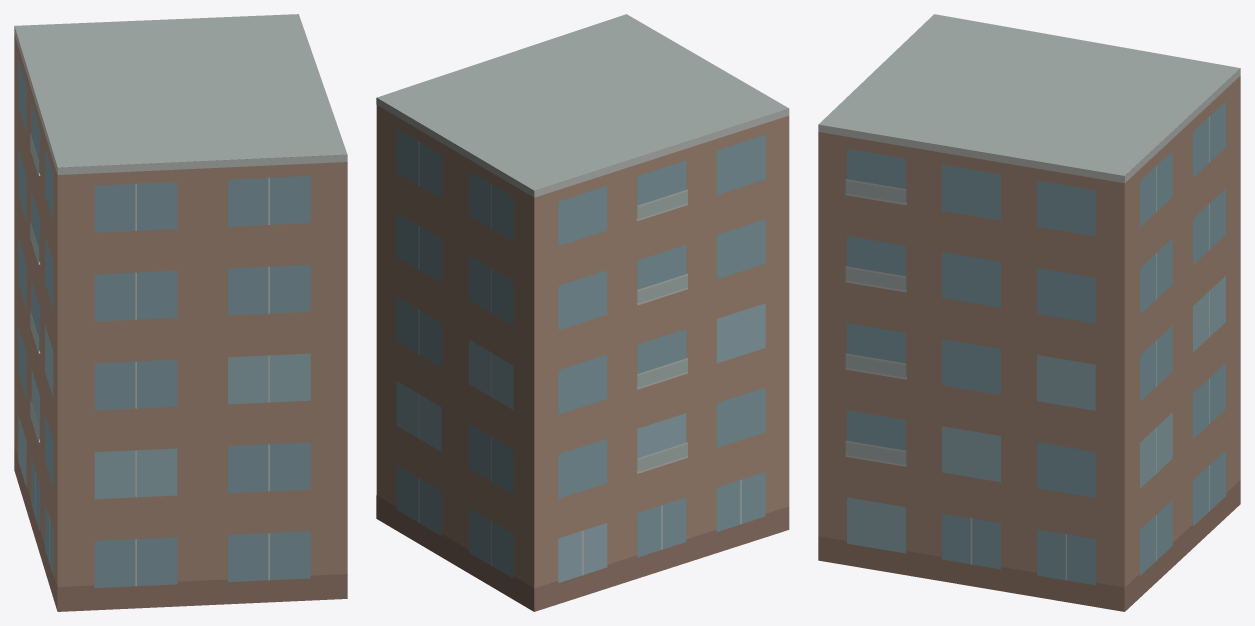
File: survey-upis-32534352.glb
3 views of the same model, side by side, from view 1: azimuth 30°, elevation 25°; view 2: azimuth 150°, elevation 25°; view 3: azimuth 270°, elevation 25° (orthographic). The views are drawn at different scales.
Parts seen in each view (by area): view 1: survey-upis-32534352.tmp; view 2: survey-upis-32534352.tmp; view 3: survey-upis-32534352.tmp.
Part boxes in pixels (left/top/right/bottom): survey-upis-32534352.tmp: left=14, top=14, right=347, bottom=611; survey-upis-32534352.tmp: left=376, top=14, right=789, bottom=611; survey-upis-32534352.tmp: left=818, top=14, right=1240, bottom=611.
Size of the model in its own units: 11.56 by 14.5 by 12.74.
